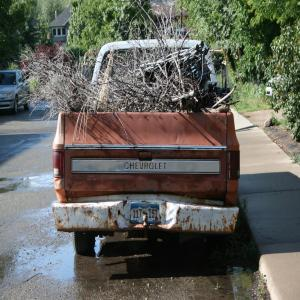Vehicle-registration-plate: (132, 204, 161, 224)
